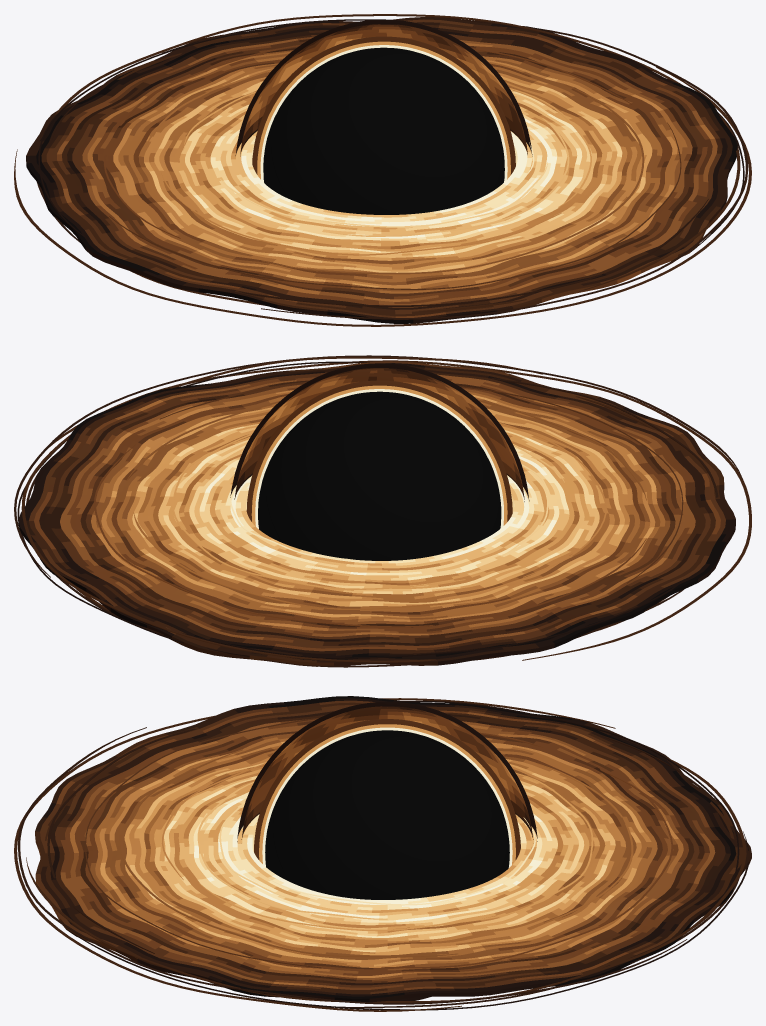
Rendered from black_hole.glb.
The picture shows the model from 3 angles, top to bottom: view 1: azimuth 30°, elevation 25°; view 2: azimuth 150°, elevation 25°; view 3: azimuth 270°, elevation 25°; orthographic projection.
Visible parts, largest first — view 1: Accretion_Disk_Volume, Shadow_Core, Lensed_Accretion_Arcs_360, Outer_Dust_Stream_08, Outer_Dust_Stream_05, Outer_Corona_360, Faint_Outer_Limb_360, Outer_Dust_Stream_07, Inner_Corona_360, Photon_Rim_360, Plasma_Filament_1_06, Plasma_Filament_1_08 (+9 smaller); view 2: Accretion_Disk_Volume, Shadow_Core, Lensed_Accretion_Arcs_360, Outer_Dust_Stream_08, Outer_Dust_Stream_05, Outer_Corona_360, Faint_Outer_Limb_360, Outer_Dust_Stream_07, Inner_Corona_360, Photon_Rim_360, Plasma_Filament_1_07, Outer_Dust_Stream_03 (+8 smaller); view 3: Accretion_Disk_Volume, Shadow_Core, Lensed_Accretion_Arcs_360, Outer_Dust_Stream_08, Outer_Dust_Stream_05, Outer_Corona_360, Outer_Dust_Stream_07, Faint_Outer_Limb_360, Inner_Corona_360, Outer_Dust_Stream_06, Photon_Rim_360, Plasma_Filament_1_06 (+9 smaller).
Boxes of the visible parts, box(x1,y1,x2,y2) form: Accretion_Disk_Volume: box(26, 17, 737, 323); Shadow_Core: box(263, 47, 504, 214); Lensed_Accretion_Arcs_360: box(240, 24, 527, 156); Outer_Dust_Stream_08: box(14, 67, 751, 326); Outer_Dust_Stream_05: box(55, 14, 740, 291); Outer_Corona_360: box(252, 36, 515, 174); Faint_Outer_Limb_360: box(235, 19, 532, 156); Outer_Dust_Stream_07: box(261, 17, 747, 319); Inner_Corona_360: box(257, 41, 510, 179); Photon_Rim_360: box(260, 45, 507, 182); Plasma_Filament_1_06: box(262, 84, 644, 274); Plasma_Filament_1_08: box(109, 122, 681, 289); Accretion_Disk_Volume: box(18, 361, 735, 666); Shadow_Core: box(258, 391, 501, 560); Lensed_Accretion_Arcs_360: box(234, 368, 524, 501); Outer_Dust_Stream_08: box(48, 360, 751, 660); Outer_Dust_Stream_05: box(21, 356, 542, 662); Outer_Corona_360: box(246, 380, 512, 521); Faint_Outer_Limb_360: box(230, 363, 529, 501); Outer_Dust_Stream_07: box(14, 355, 742, 577); Inner_Corona_360: box(251, 385, 507, 526); Photon_Rim_360: box(255, 389, 503, 528); Plasma_Filament_1_07: box(94, 444, 646, 627); Outer_Dust_Stream_03: box(106, 583, 679, 658); Accretion_Disk_Volume: box(35, 696, 751, 1002); Shadow_Core: box(265, 730, 509, 899); Lensed_Accretion_Arcs_360: box(241, 706, 533, 839); Outer_Dust_Stream_08: box(14, 698, 615, 1011); Outer_Dust_Stream_05: box(26, 757, 746, 1002); Outer_Corona_360: box(254, 719, 520, 859); Outer_Dust_Stream_07: box(18, 727, 687, 1004); Faint_Outer_Limb_360: box(237, 702, 537, 1000); Inner_Corona_360: box(259, 724, 515, 864); Outer_Dust_Stream_06: box(66, 831, 748, 1010); Photon_Rim_360: box(262, 727, 512, 867); Plasma_Filament_1_06: box(121, 749, 457, 957).
Bounding box in the file's own units: 21.7 × 8.78 × 21.47.
